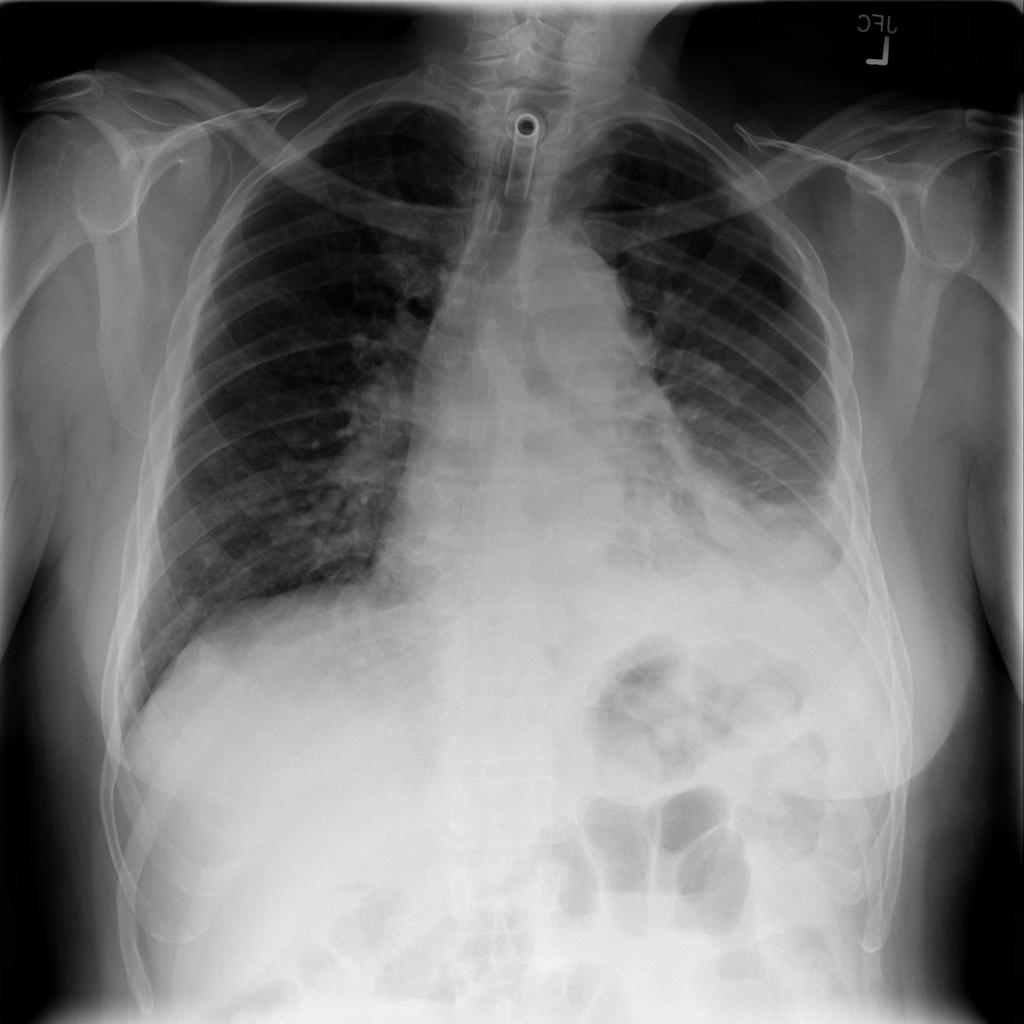nodule: (167, 581, 219, 628)
